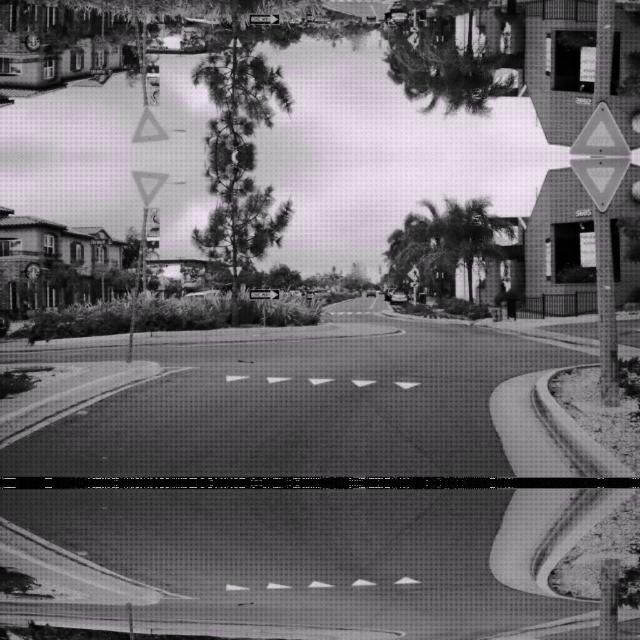pedestrianCrossing: (406, 264, 424, 280), (406, 32, 424, 48)
yield: (131, 168, 169, 206), (131, 106, 169, 144)
